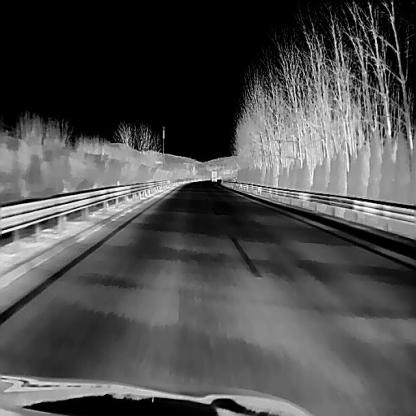truck: (211, 170, 217, 181)
